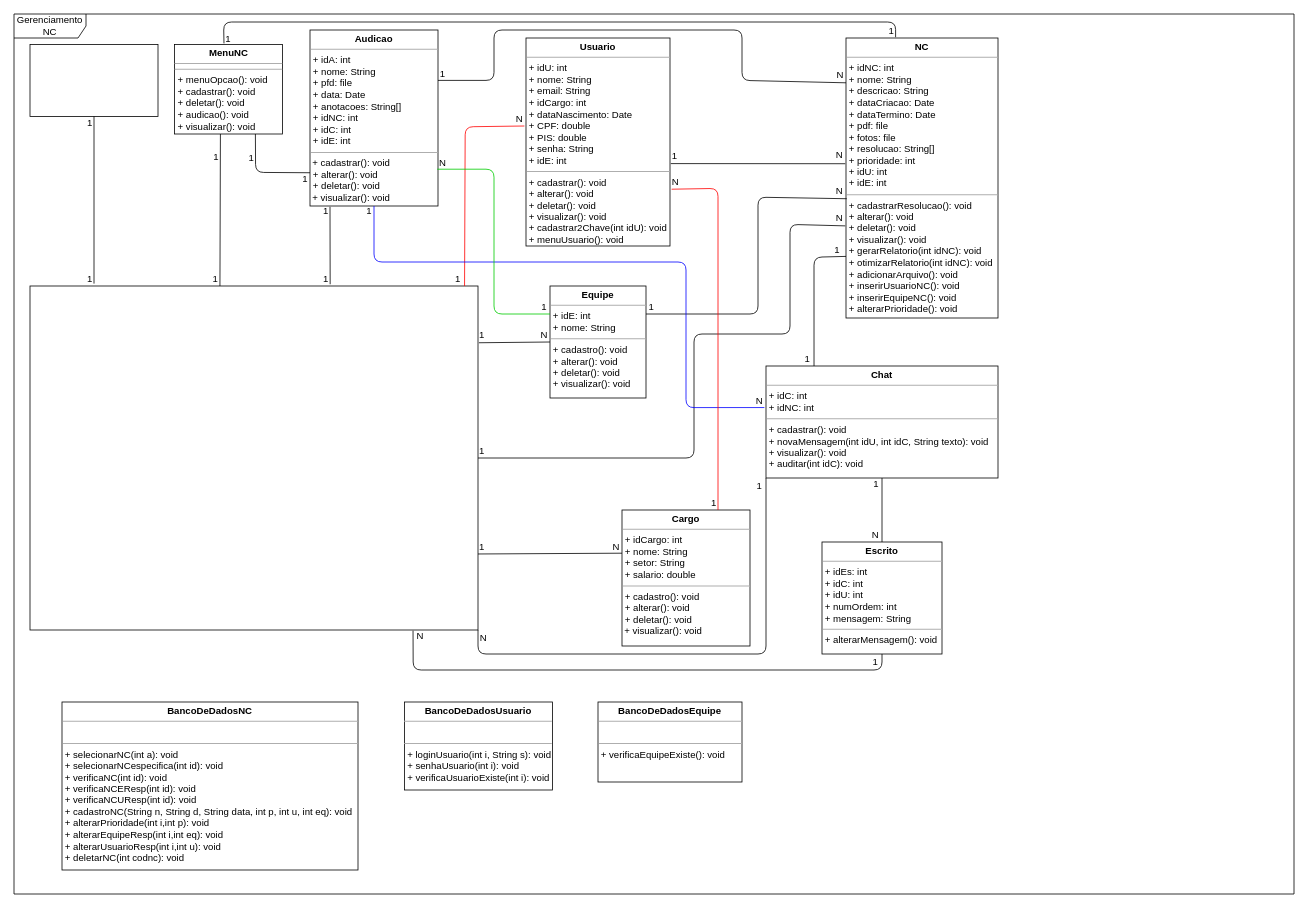
Image size: 1308x908. Some labels were removed from this diagram. Each missing label, with the centre of its shape:
"BancoDeDados + iniciarConexao(): void" goes at point 253,457.
"MenuInical + login(): void + esqueceuSenha(): void" goes at point 93,80.
